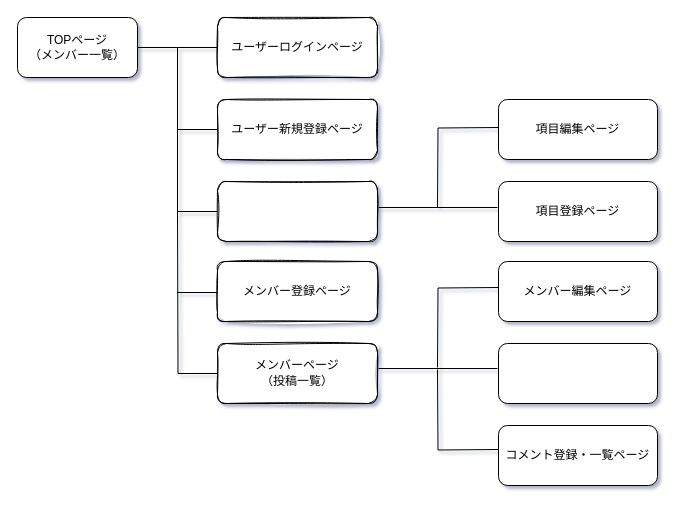
Image size: 681x509. Some labels were removed from this diagram. Here are the shapes that lost their labels. From the top down, the centre of each, then its label:
pixel 297 211: 項目一覧ページ
pixel 578 373: 投稿編集ページ
